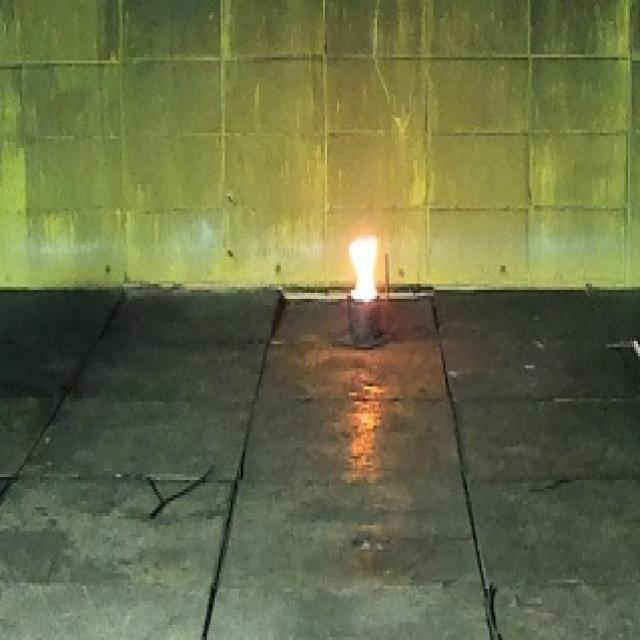Fire: (349, 235, 379, 301)
